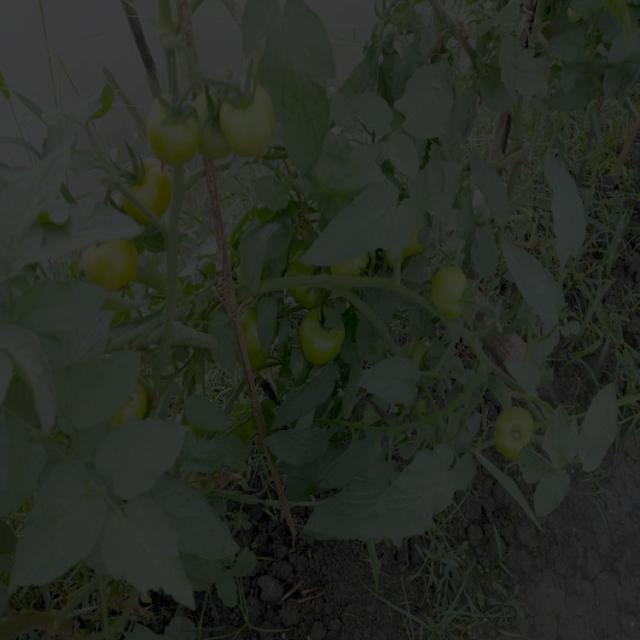tomato: (210, 94, 283, 157), (106, 155, 168, 215), (86, 244, 148, 295), (232, 310, 275, 376), (496, 406, 540, 465), (156, 105, 201, 158), (306, 316, 351, 364), (293, 256, 329, 309), (434, 267, 470, 317), (118, 384, 155, 424), (396, 221, 431, 258), (336, 256, 374, 281)
